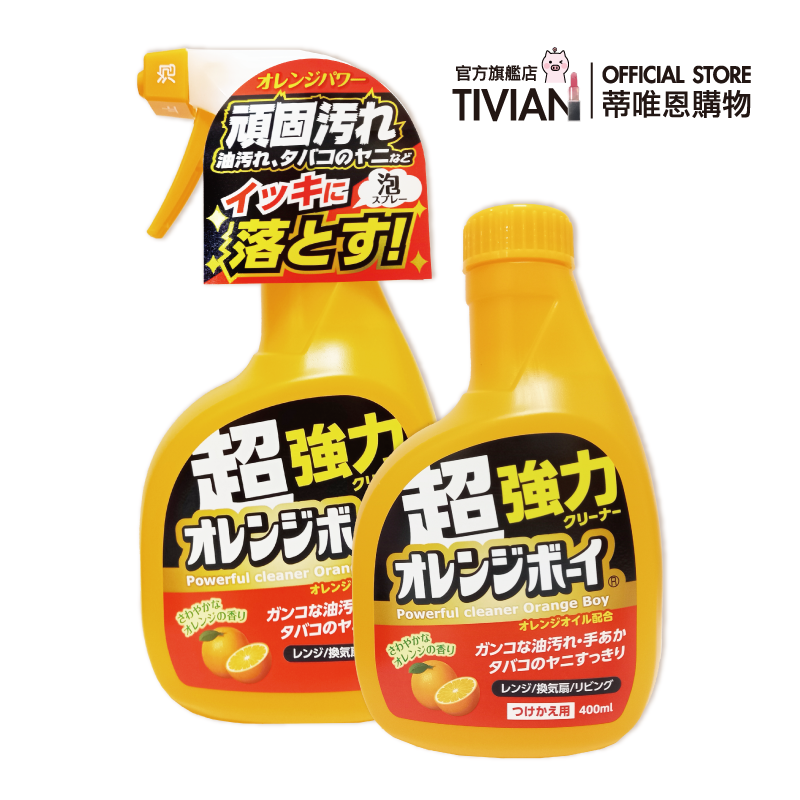cleaner: (116, 52, 441, 734), (344, 196, 673, 767)
